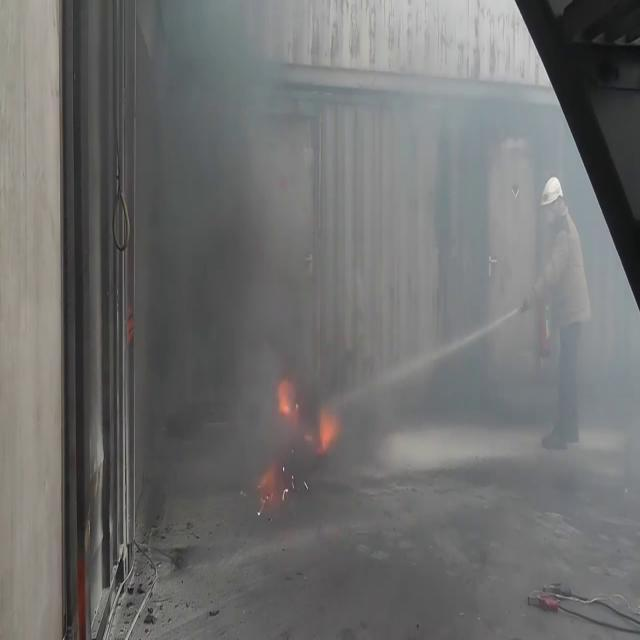Smoke: (136, 3, 336, 506)
